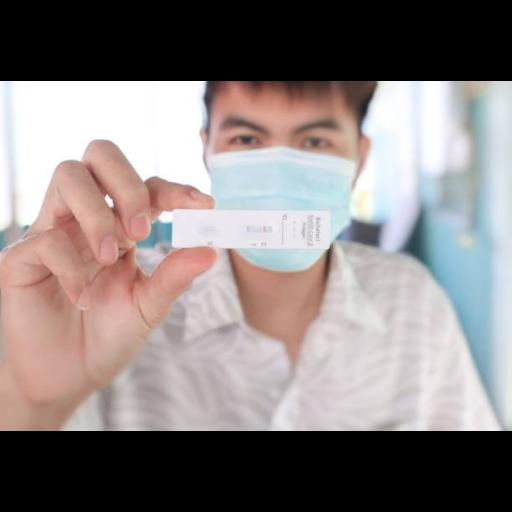Neg: (172, 207, 330, 247)
